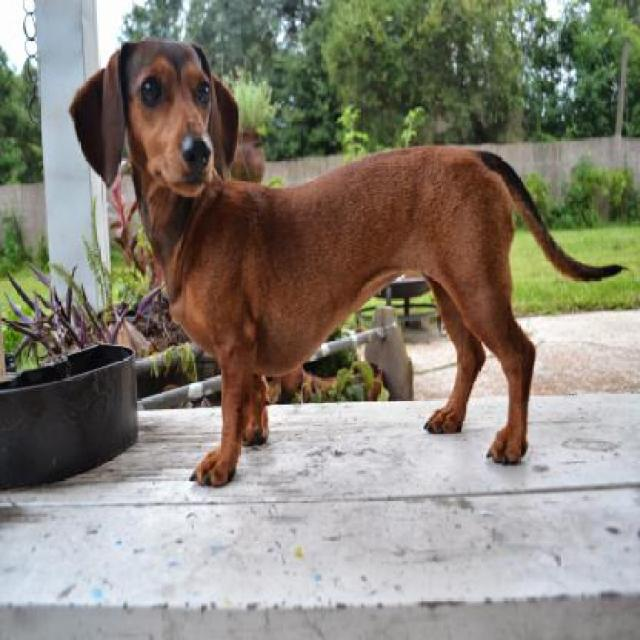Dog: (71, 29, 626, 488)
